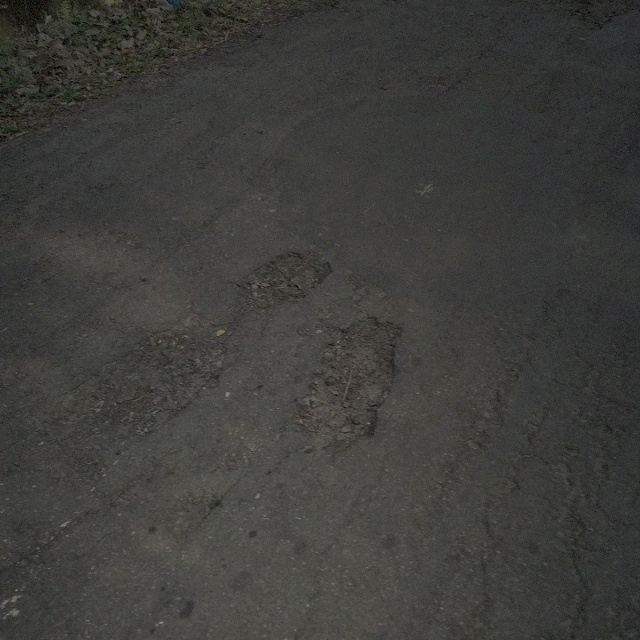pothole: (59, 312, 231, 438), (292, 311, 401, 457), (234, 249, 335, 315), (539, 0, 639, 30)
